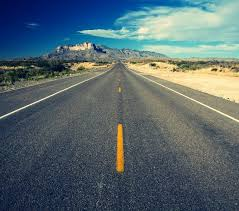strada: (4, 68, 238, 202)
